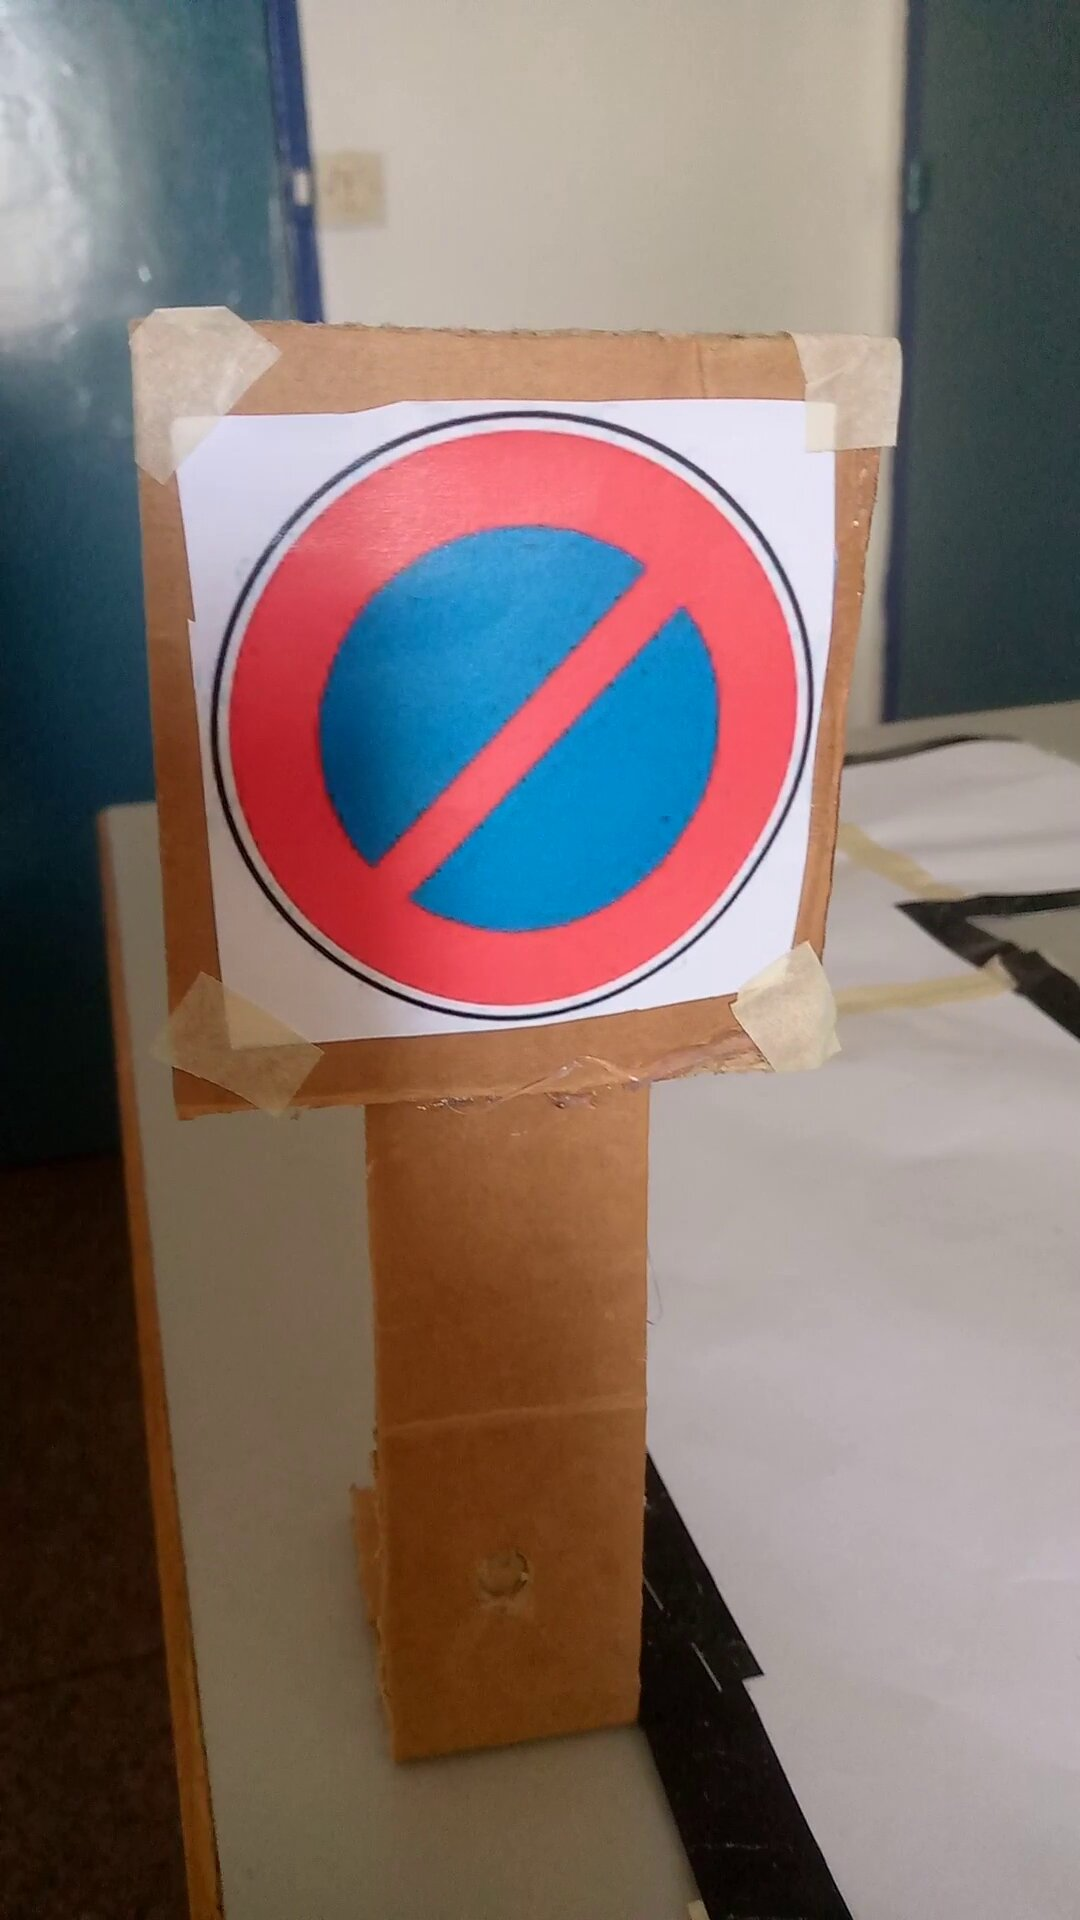panel110: (164, 409, 804, 1029)
